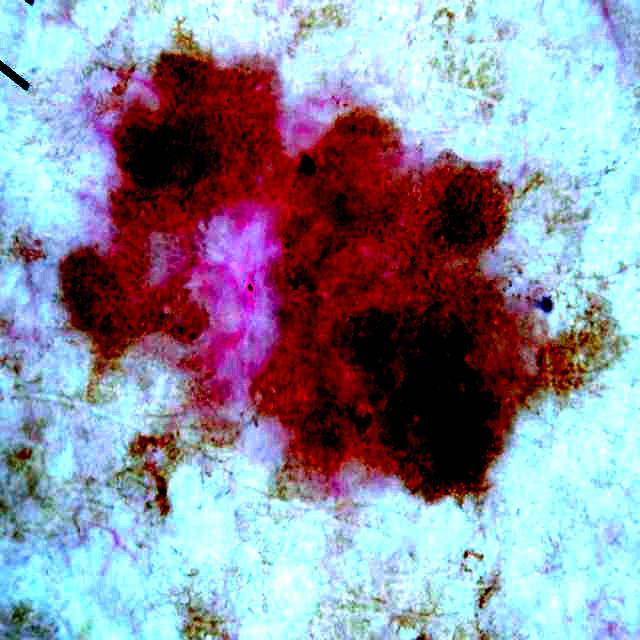AKIEC: (62, 53, 549, 516)
